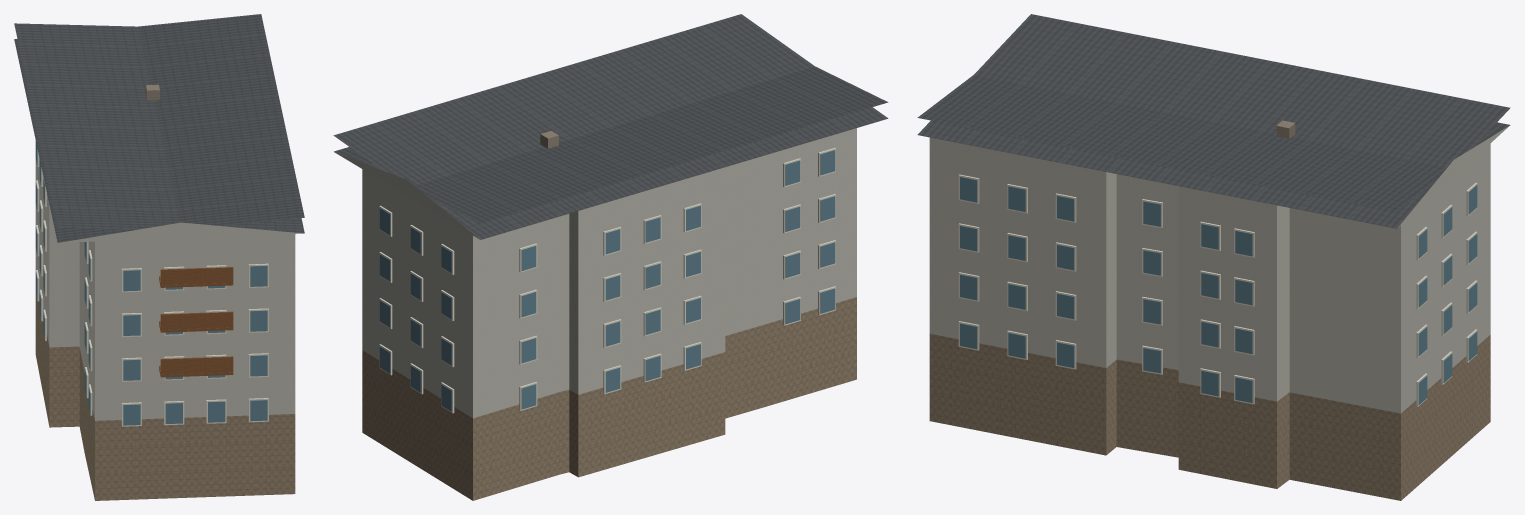
The model's file is core_0064.gltf.
3 views of the same model, side by side, from view 1: azimuth 30°, elevation 25°; view 2: azimuth 150°, elevation 25°; view 3: azimuth 270°, elevation 25° (orthographic). The views are drawn at different scales.
Parts seen in each view (by area): view 1: core_0064; view 2: core_0064; view 3: core_0064.
Part boxes in pixels (x1,y1,x2,y2): core_0064: [14, 14, 304, 500]; core_0064: [333, 14, 888, 500]; core_0064: [917, 14, 1510, 500].
Bounding box in the file's own units: 24.73 × 17.95 × 31.37.
Materials: 7 (7 with a texture image).
